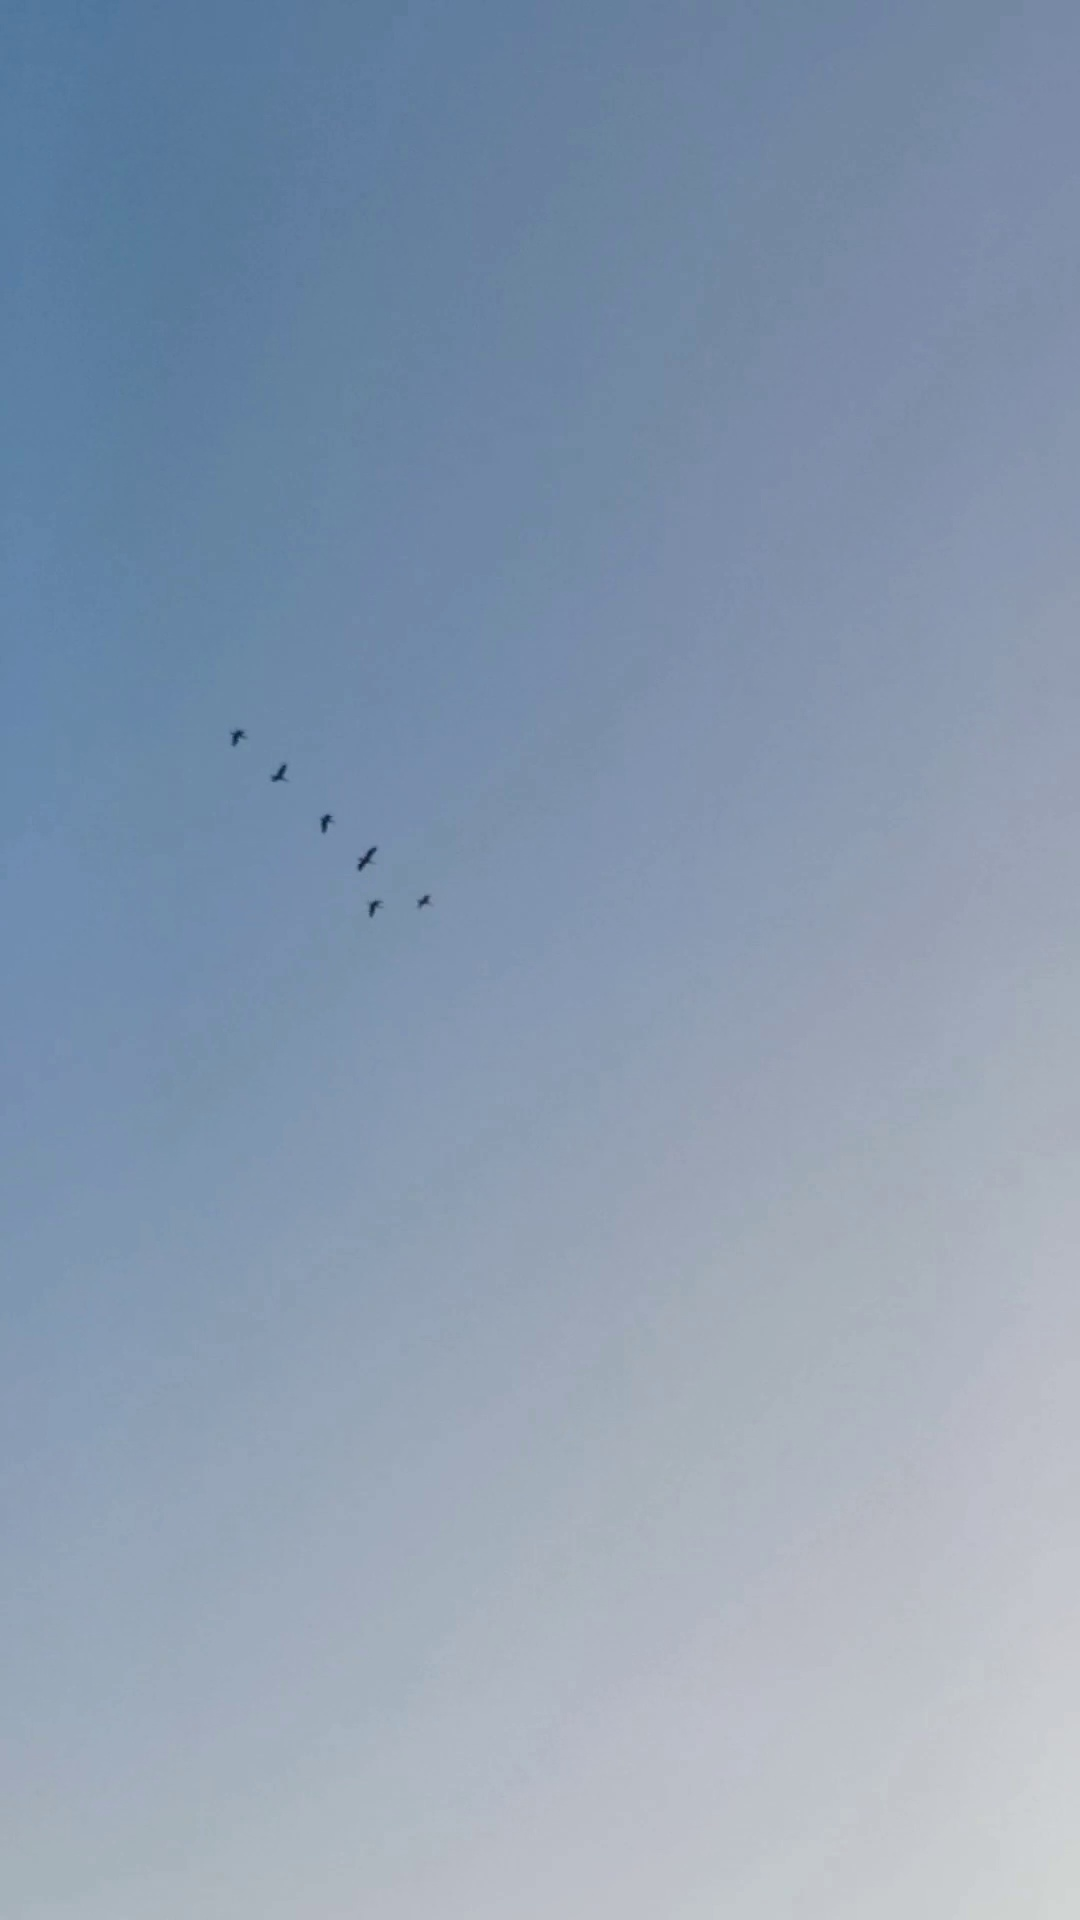bird: (357, 847, 378, 872), (268, 762, 289, 785), (415, 891, 435, 913), (228, 727, 248, 748), (319, 812, 338, 833), (367, 899, 385, 916)
